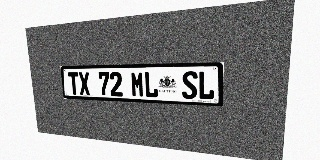2: (109, 72, 123, 96)
7: (98, 72, 110, 96)
L: (198, 71, 215, 100), (144, 71, 158, 98)
M: (130, 72, 144, 97)
S: (182, 71, 198, 99)
T: (68, 72, 80, 95)
X: (78, 72, 90, 95)
